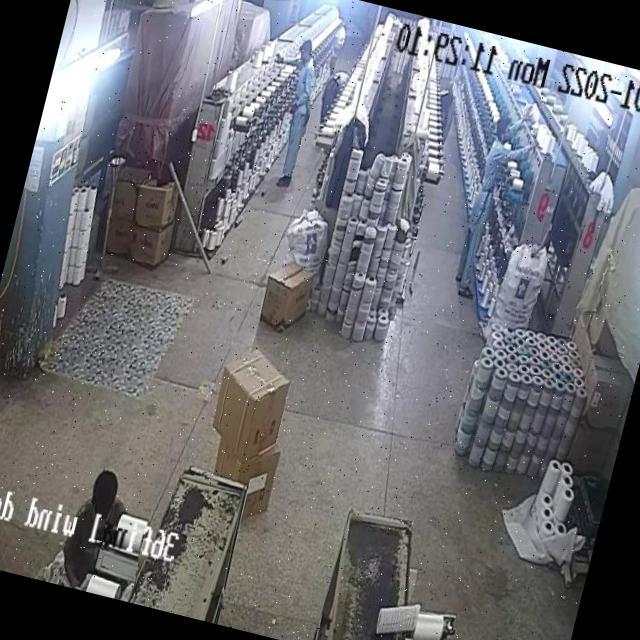person: (446, 114, 514, 304), (266, 34, 326, 188), (65, 460, 134, 570)
